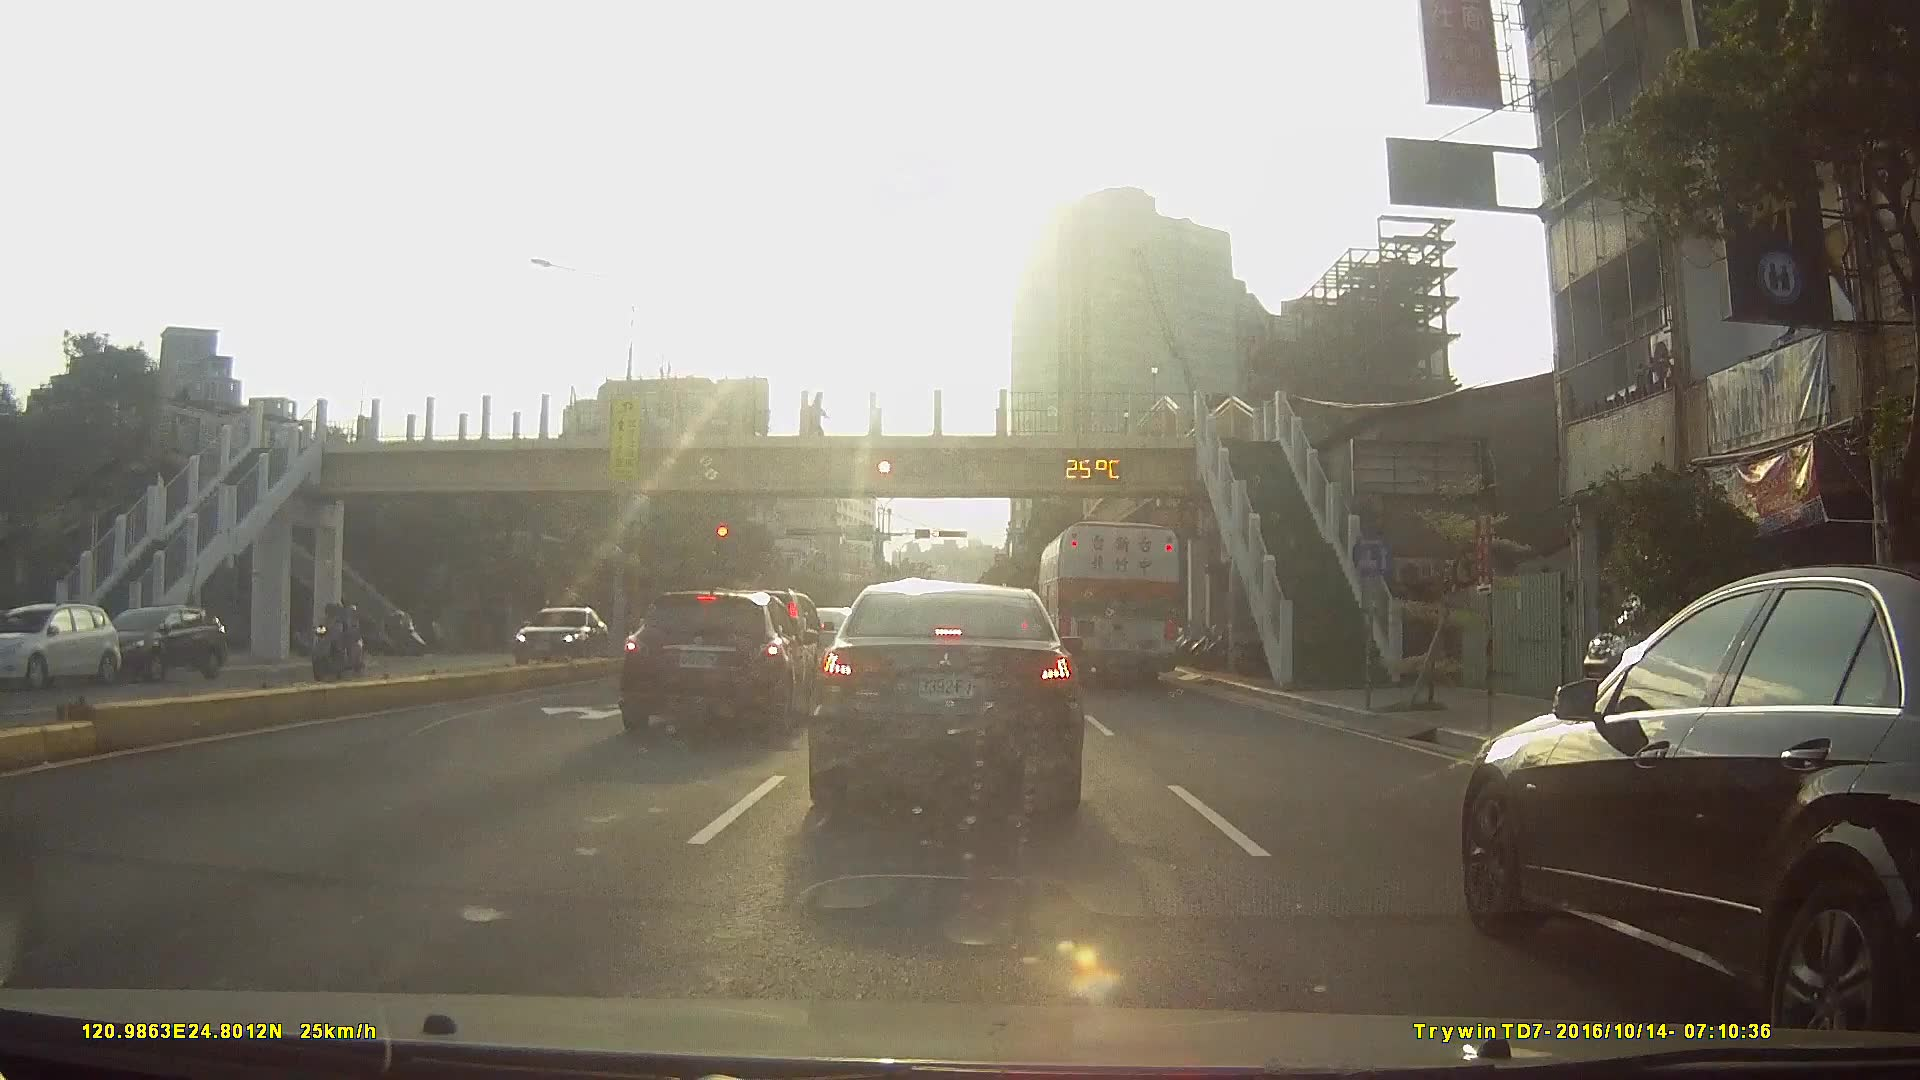pedestrian: (807, 393, 828, 441)
rider: (309, 596, 357, 683)
vehicle: (1450, 562, 1920, 1052), (804, 578, 1084, 813), (613, 585, 818, 736), (1037, 519, 1183, 689), (0, 600, 120, 689), (90, 601, 224, 679), (505, 606, 605, 664)
